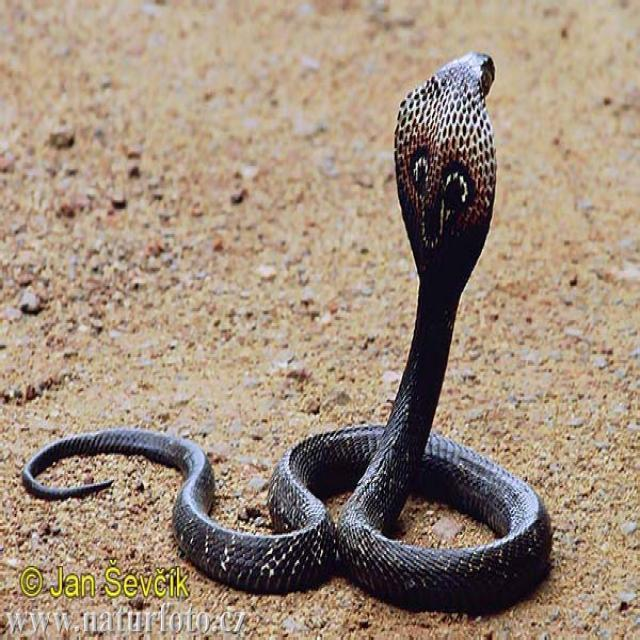Snake: (21, 49, 552, 615)
